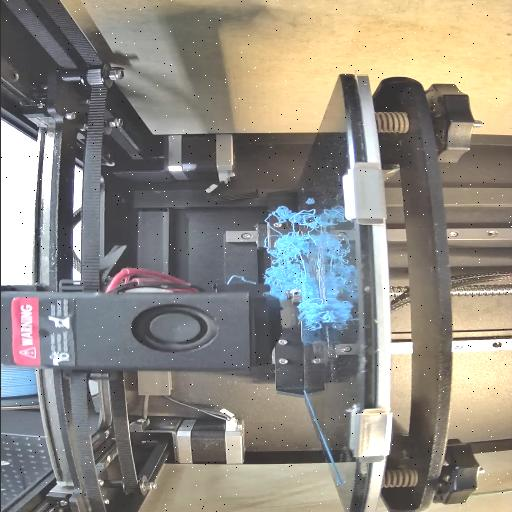spaghetti: (268, 211, 318, 295), (294, 298, 336, 332)
